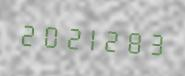eight: (122, 22, 142, 59)
one: (80, 19, 100, 56)
three: (143, 23, 163, 60)
two: (17, 14, 37, 52), (59, 17, 79, 55), (101, 20, 121, 57)
zero: (38, 16, 58, 53)
